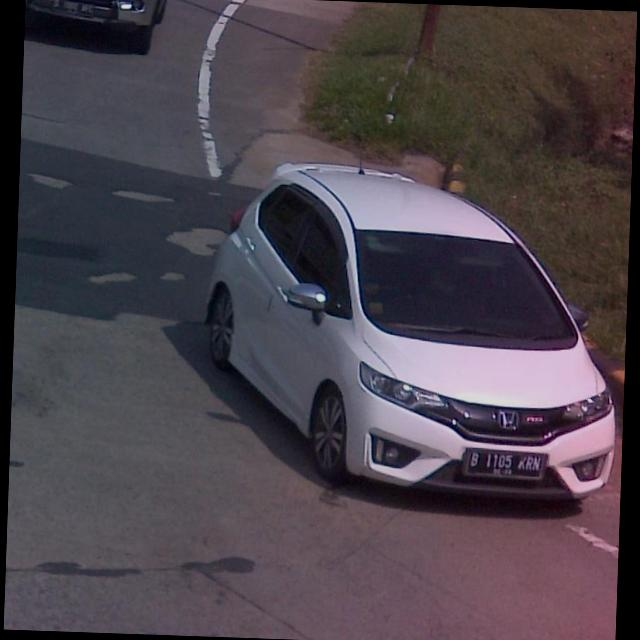plate: (462, 446, 546, 481)
